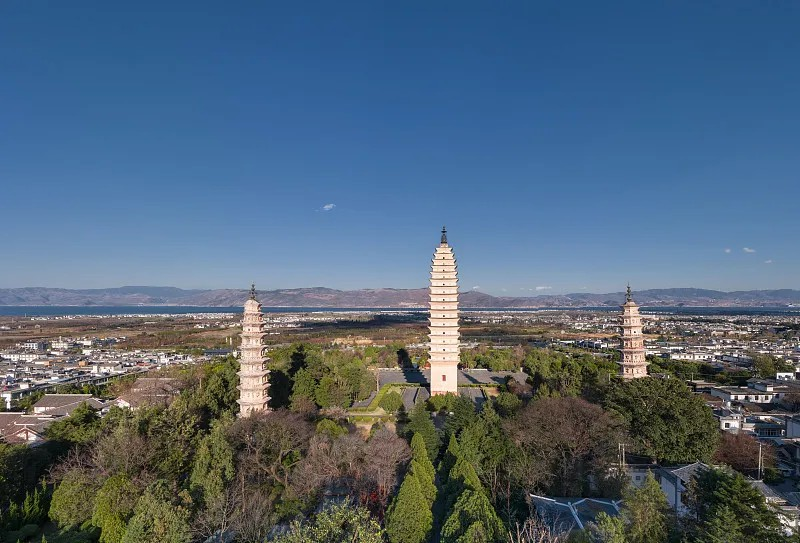ThreePagoda: (426, 227, 462, 394)
